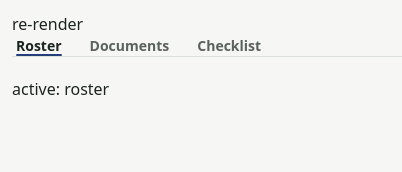
TabContainer › switches when a tab is clicked
Click the tab "Checklist" at (229, 46), box left=185, top=36, right=273, bottom=56
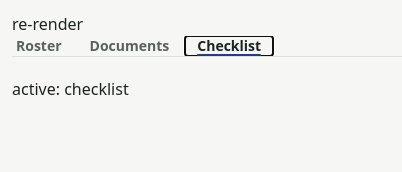
Expected: the text "active: checklist" is shown, left=12, top=78, right=129, bottom=100
